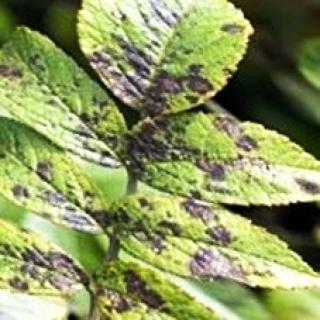leaf spot: (37, 107, 303, 287), (2, 232, 168, 320), (92, 3, 220, 113)
